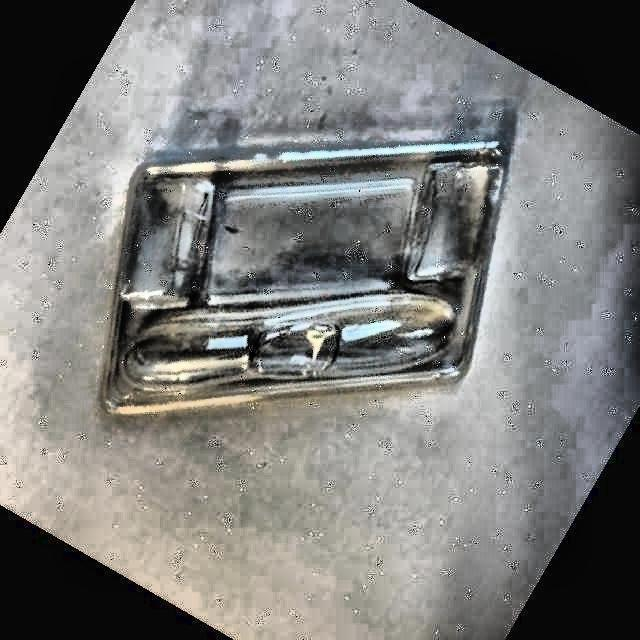plastic: (104, 142, 504, 412)
